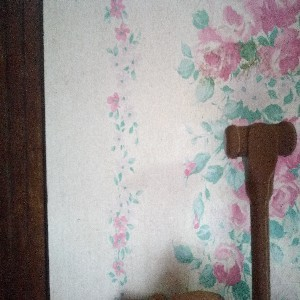palu: (222, 119, 298, 300)
